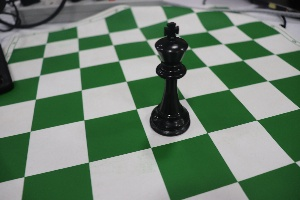black_king: (138, 15, 194, 139)
